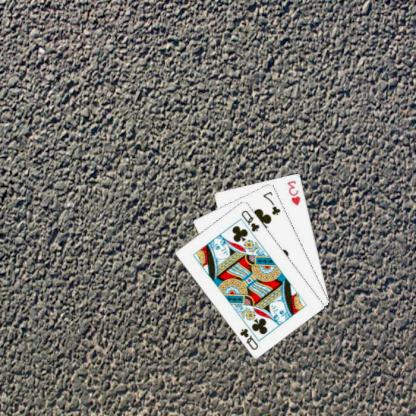3H: (286, 178, 304, 207)
7C: (262, 188, 284, 216)
QC: (240, 207, 263, 233), (239, 325, 261, 351)
